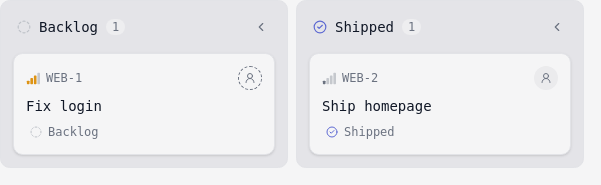
Test case: kanban status collapse › the control reports the collapsed state
Click the button named "collapse backlog" at (261,27), box x1=251 y1=17 x2=271 y2=37
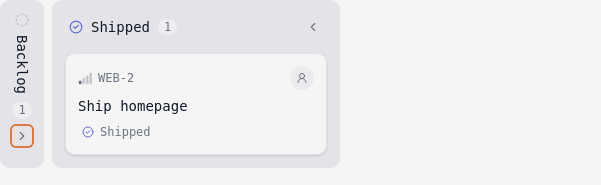
Expected: the button named "expand backlog" is collapsed, x1=12 y1=126 x2=32 y2=146
